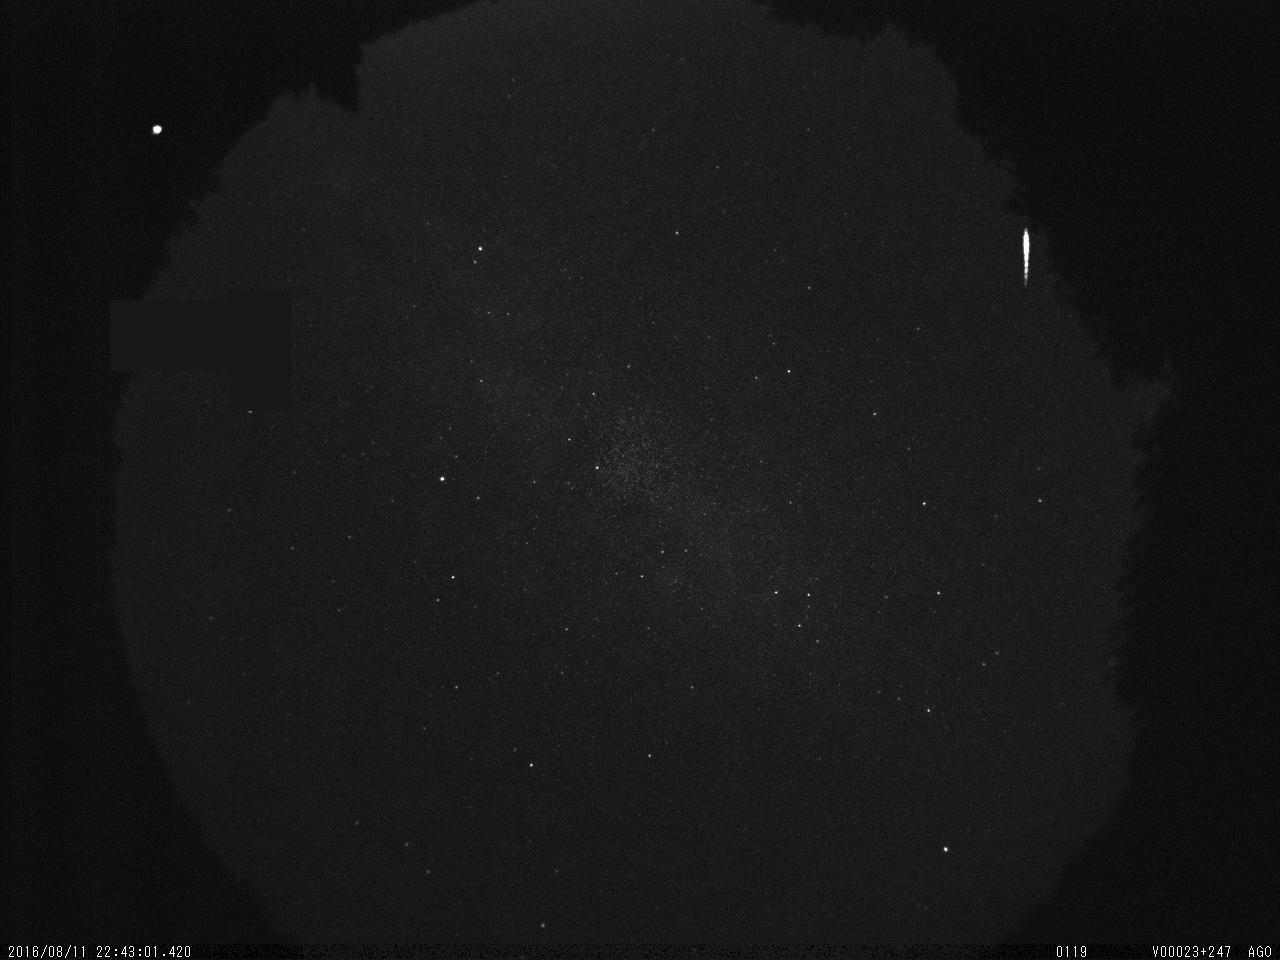meteor: (1008, 222, 1053, 293)
